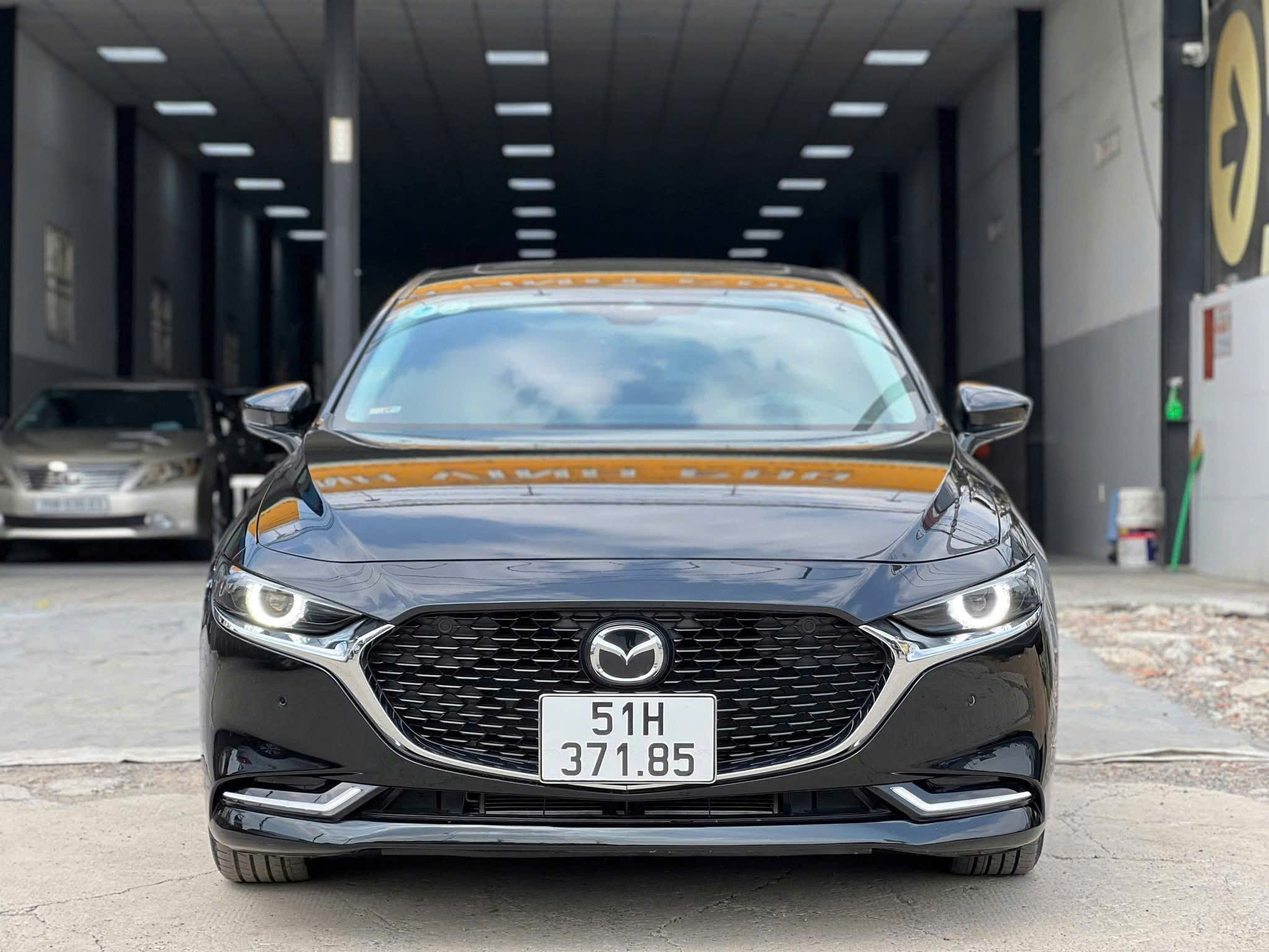Bien-so: (531, 693, 720, 784)
